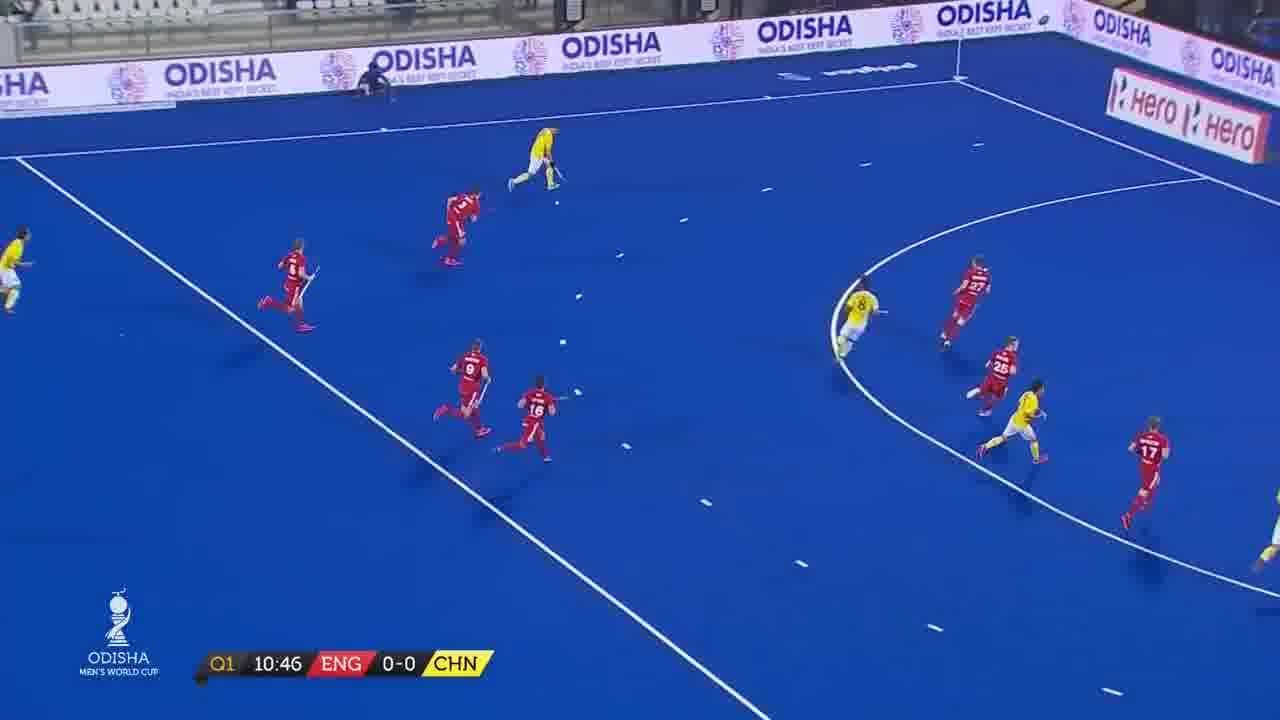ball: (549, 195, 563, 209)
